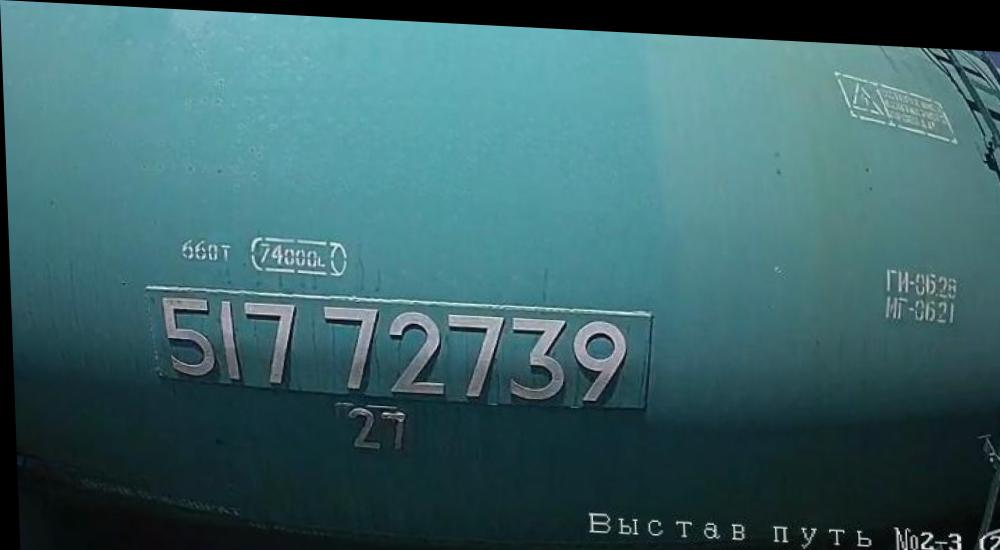Wagon-number: (153, 284, 639, 408)
